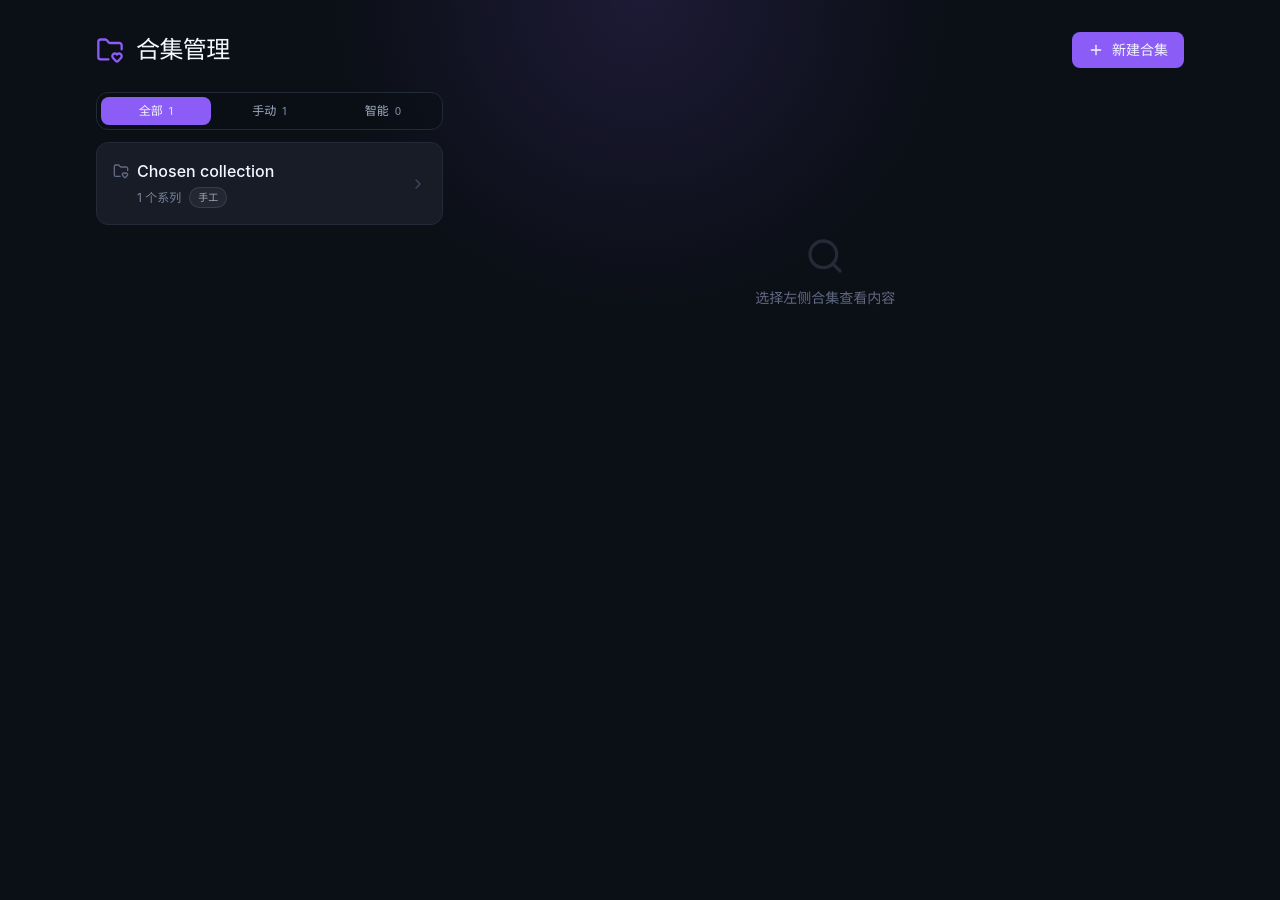
Test: scan refresh updates selected collection members and preserves the unsaved creation form
The image size is (1280, 900).
Click the text "Chosen collection".
click(206, 171)  # box x1=137 y1=159 x2=274 y2=183
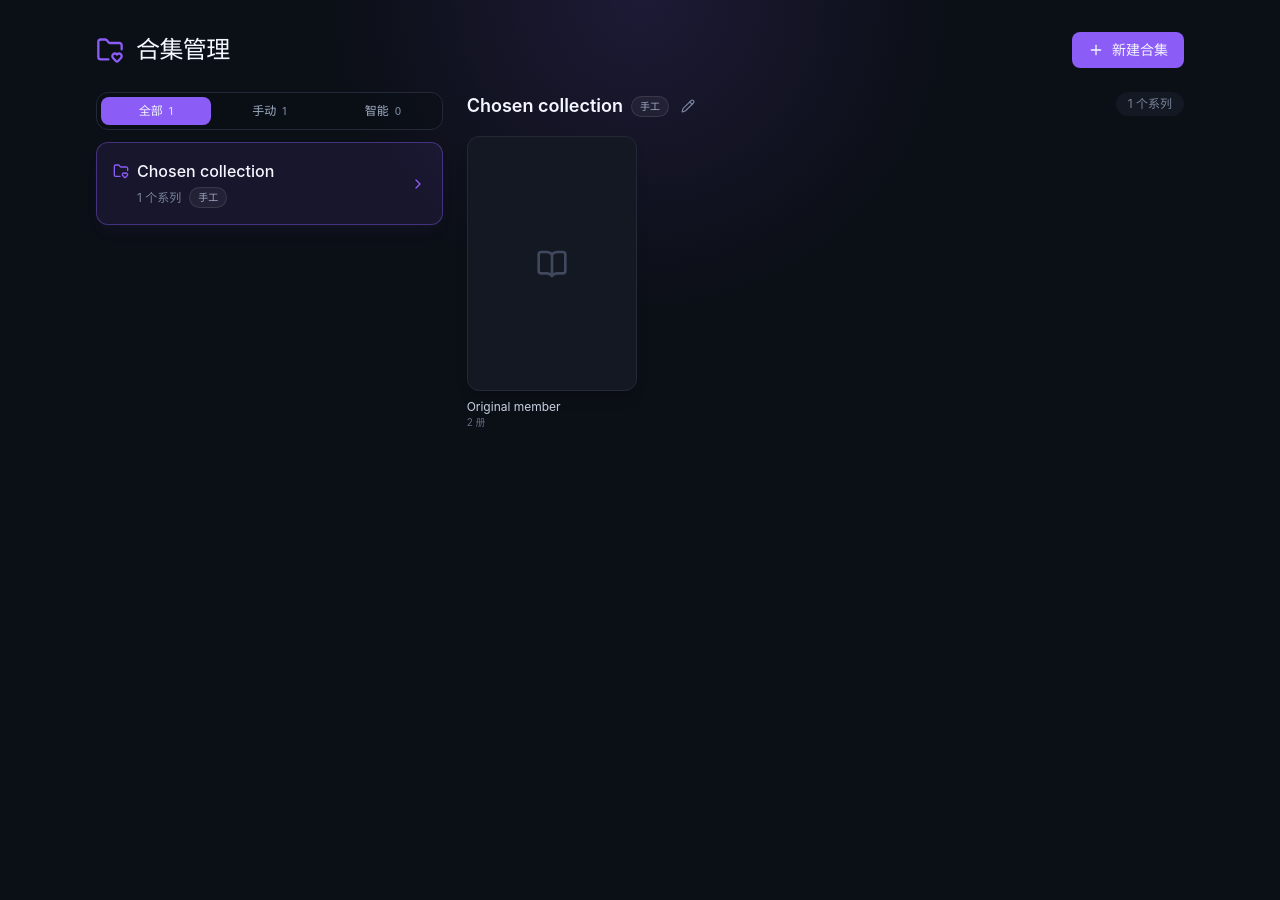
Now the text "Original member" is shown, box x1=467 y1=400 x2=561 y2=414
Click the button "新建合集".
click(1128, 50)  # box x1=1072 y1=32 x2=1184 y2=68
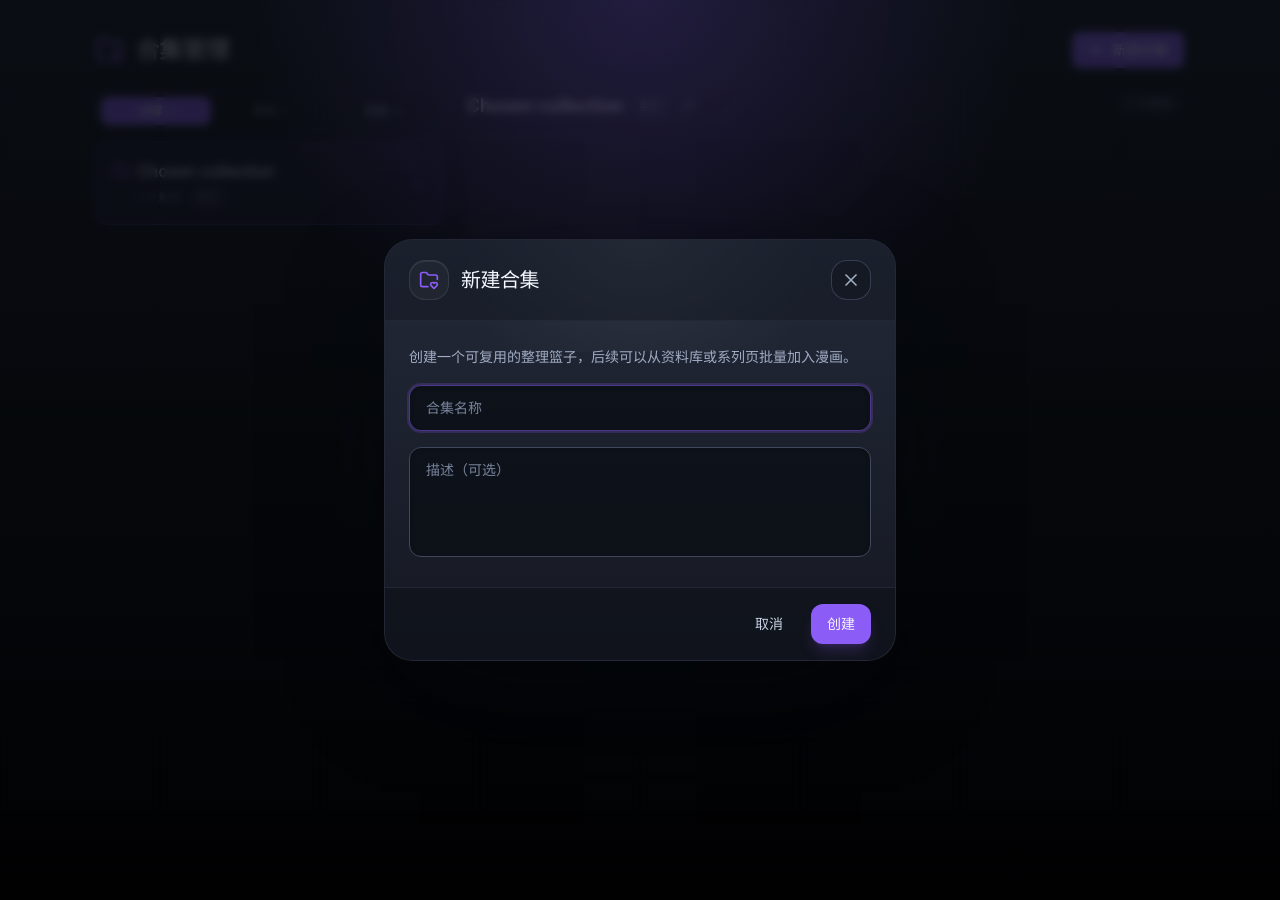
Type "Unsaved title" into the field with placeholder "合集名称".
click(640, 408); type("Unsaved title")  # box x1=409 y1=385 x2=871 y2=431
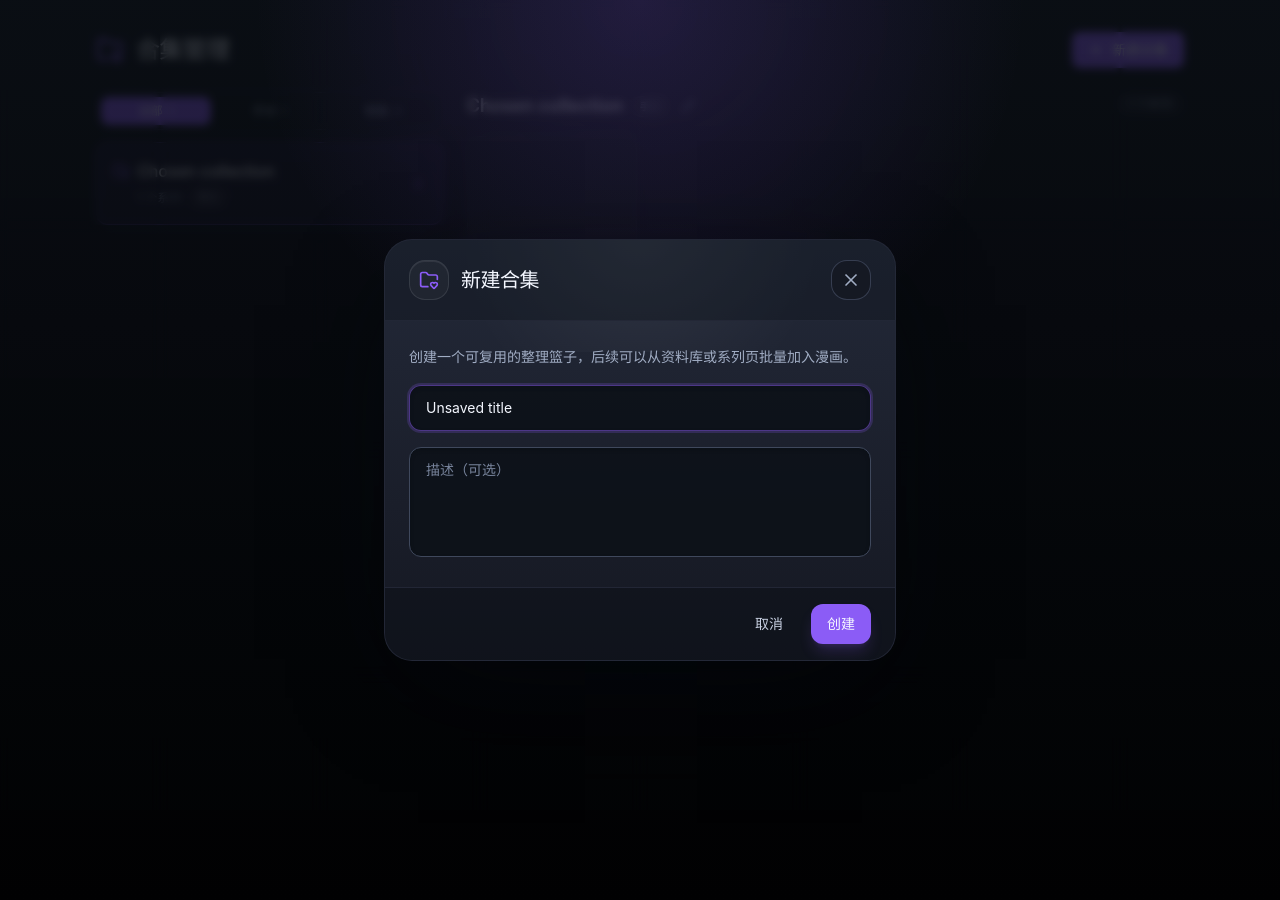
Now the text "Refreshed member" is shown, box x1=467 y1=400 x2=575 y2=414
